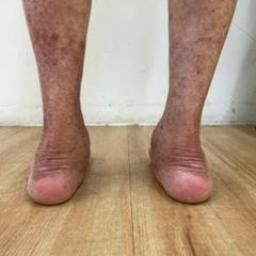Back View -Both Feet-: (13, 78, 231, 224)
